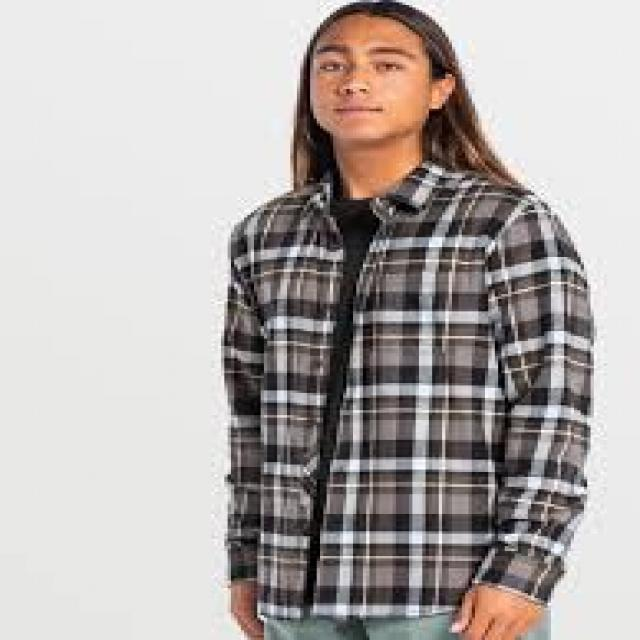plaid: (219, 155, 603, 608)
